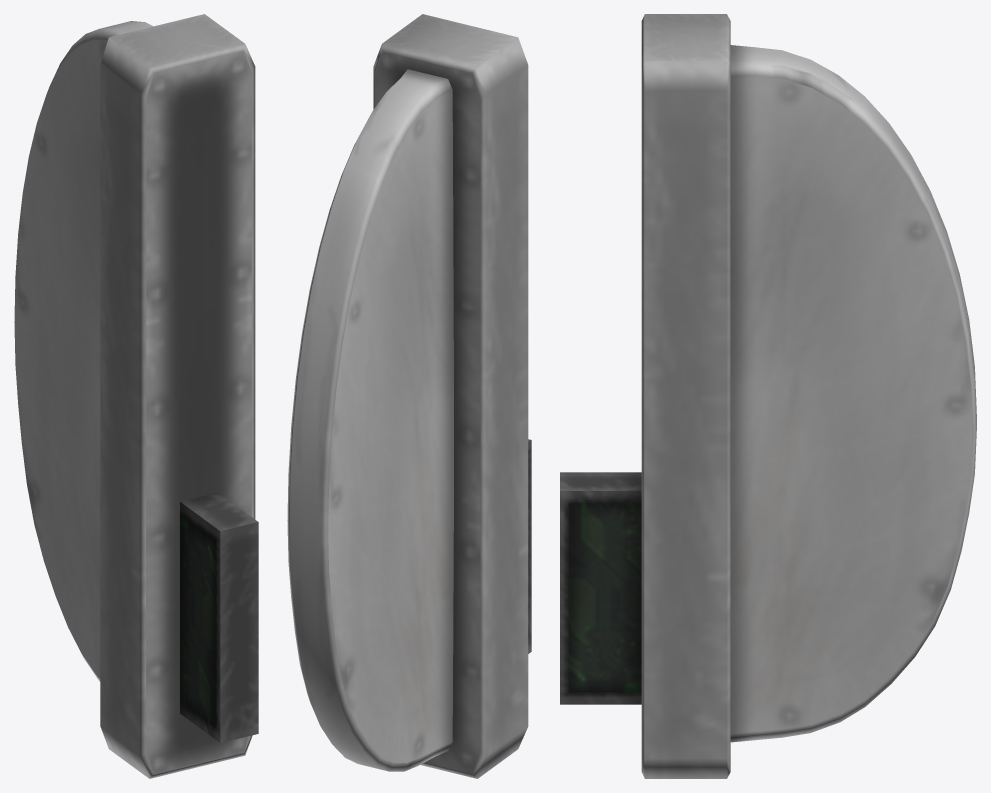
Rendered from Scimatar_new.dae.
The picture shows the model from 3 angles, left to right: view 1: azimuth 30°, elevation 25°; view 2: azimuth 150°, elevation 25°; view 3: azimuth 270°, elevation 25°; orthographic projection.
Parts seen in each view (by area): view 1: Scimatar2; view 2: Scimatar2; view 3: Scimatar2.
Boxes of the visible parts, <box> form: Scimatar2: <box>14,14,258,778</box>; Scimatar2: <box>287,14,531,778</box>; Scimatar2: <box>560,14,976,778</box>.
Bounding box in the file's own units: 0.0676 × 0.3981 × 0.2094.
